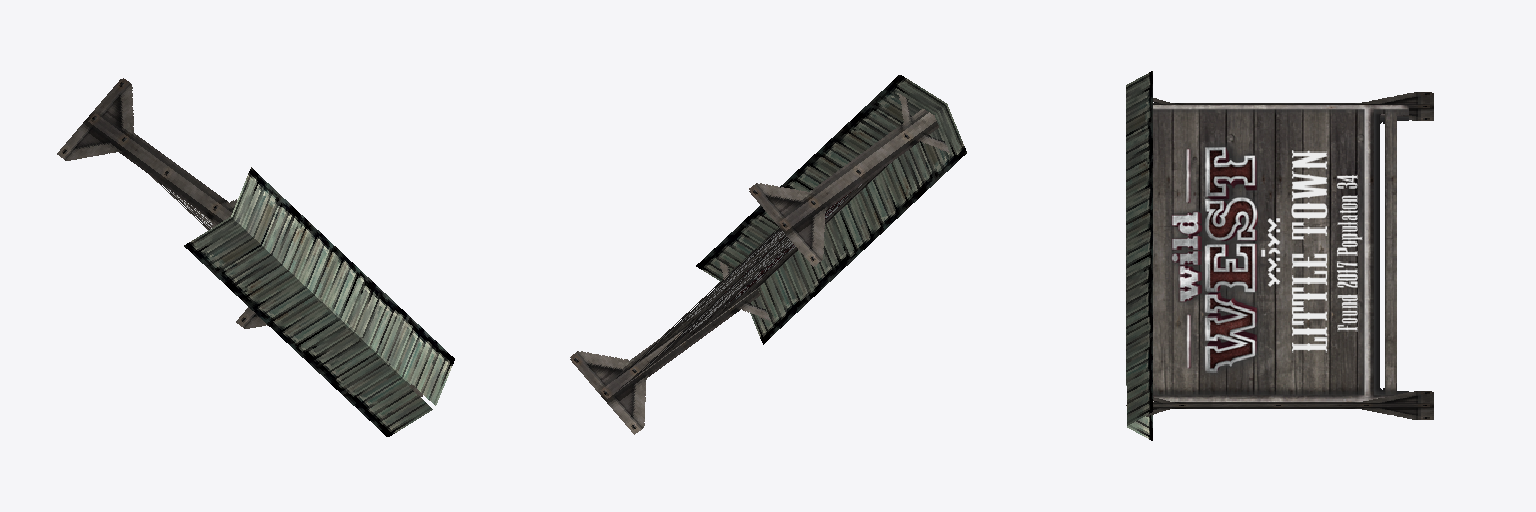
3 renders of one model, left to right at view 1: azimuth 30°, elevation 25°; view 2: azimuth 150°, elevation 25°; view 3: azimuth 270°, elevation 25°, orthographic.
Size of the model in its own units: 70.94 by 75.91 by 69.75.
Materials: 3 (3 with a texture image).